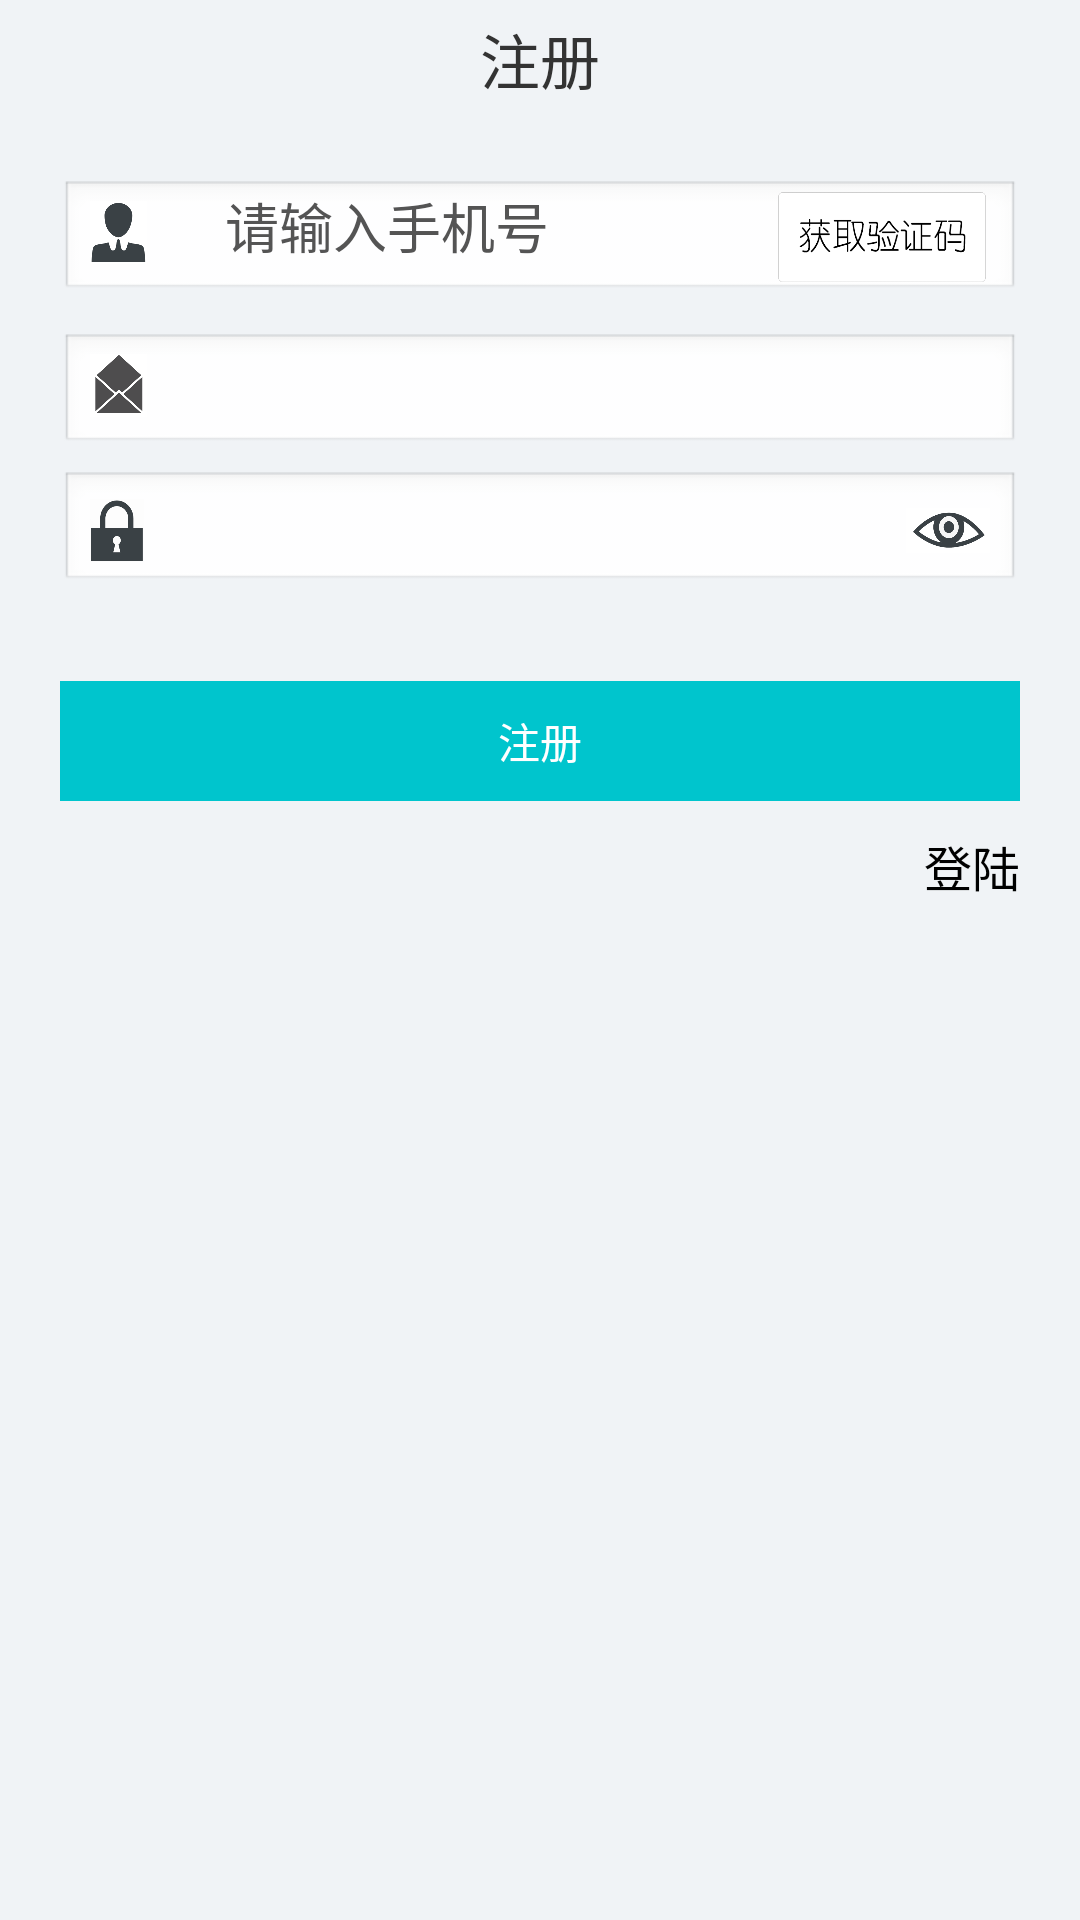

Screen size 1080px x 1920px. Icon name, then its center in pixels as (x,y):
eye: (949,530)
password: (117,530)
username: (118,232)
